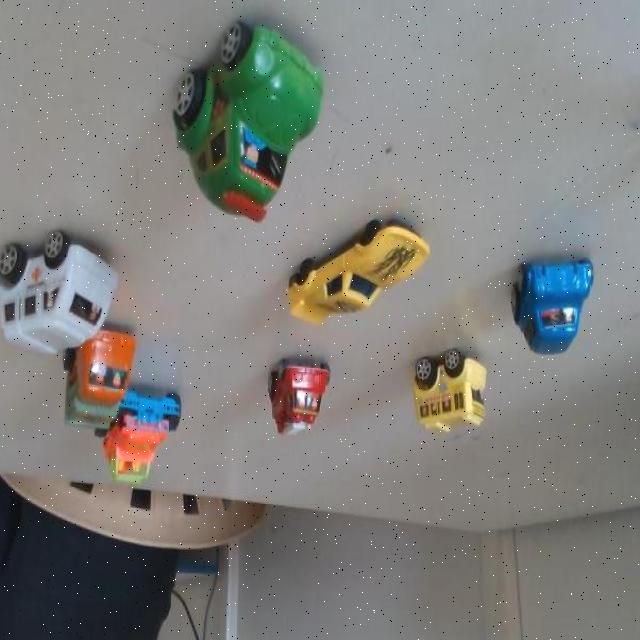car: (165, 14, 336, 220), (0, 206, 133, 376), (290, 208, 428, 335), (109, 388, 190, 492), (404, 338, 489, 436), (66, 320, 133, 438), (257, 342, 331, 448), (517, 256, 593, 355)
